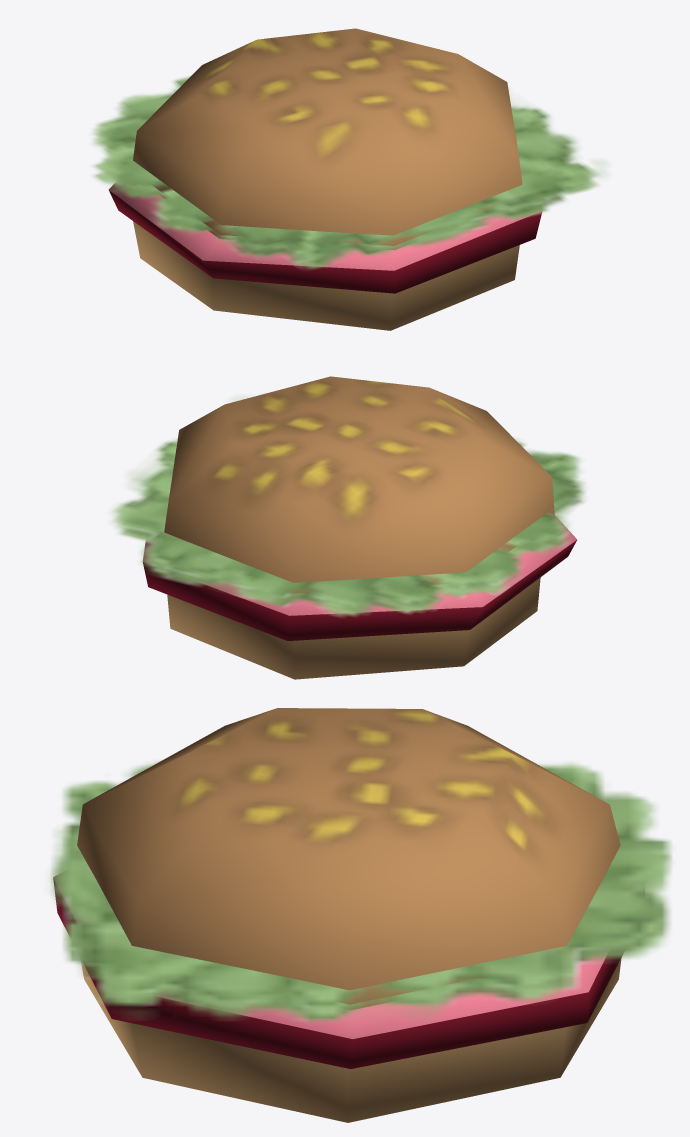
The model's file is patty.glb.
The picture shows the model from 3 angles, top to bottom: view 1: azimuth 30°, elevation 25°; view 2: azimuth 150°, elevation 25°; view 3: azimuth 270°, elevation 25°; orthographic projection. The views are drawn at different scales.
Parts seen in each view (by area): view 1: krabbypatty; view 2: krabbypatty; view 3: krabbypatty.
Part boxes in pixels (x1,y1,x2,y2): krabbypatty: (90, 28, 606, 330); krabbypatty: (112, 376, 586, 679); krabbypatty: (50, 708, 672, 1122).
Size of the model in its own units: 1.79 by 0.7495 by 1.75.
Materials: 1 (1 with a texture image).
